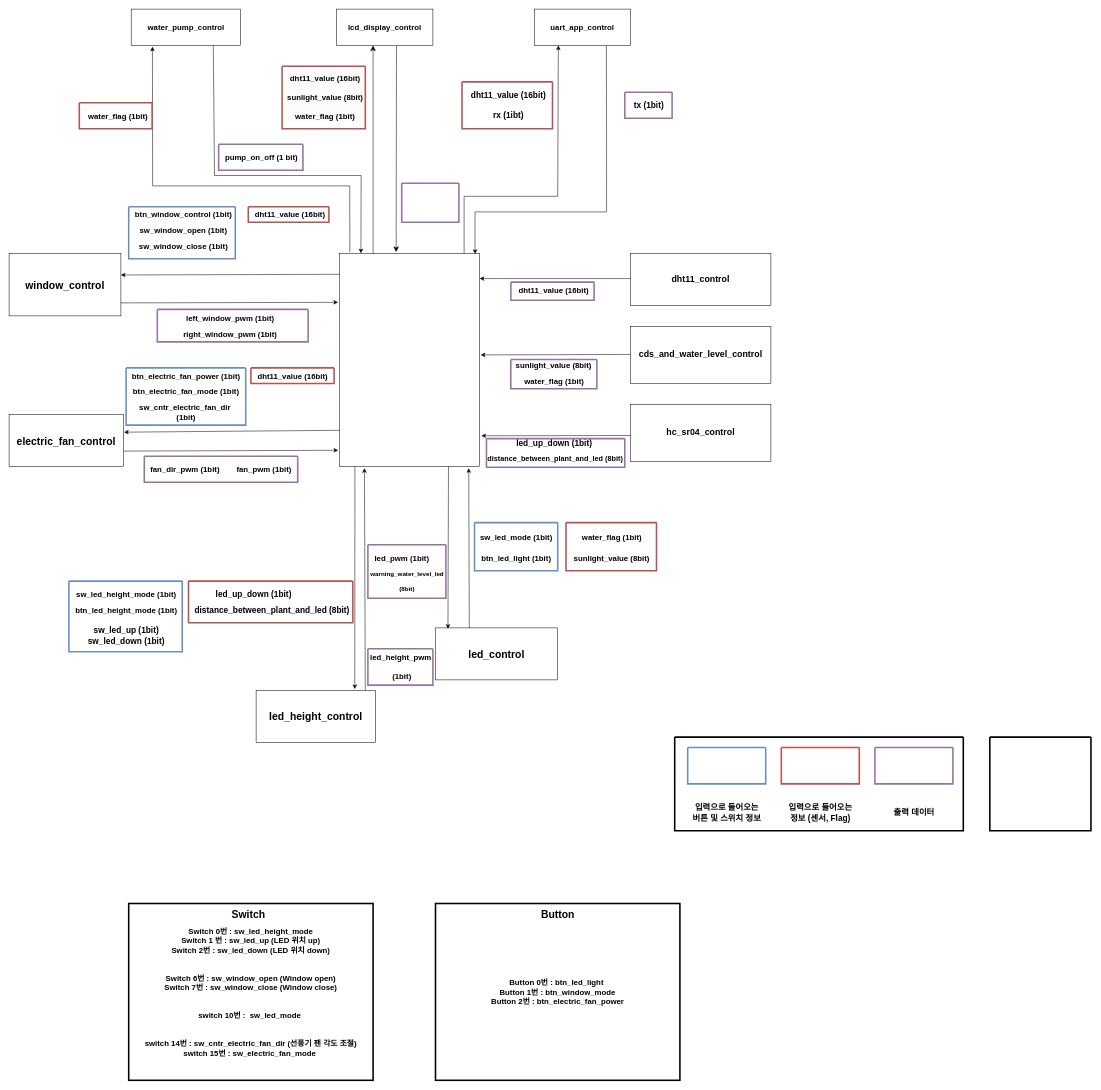
The diagram is 1101 pixels wide and 1090 high, and some of its shapes have lost their labels. The shapes that lost their labels are listed below. From the top down, each one's box as (x1, y1, x2, y2) in pixels, then its label:
(401, 182, 459, 223): scl (1bit) sda (1bit)
(339, 253, 480, 467): Top module
(989, 736, 1091, 831): dht11_value (16bit) [ 온도 (8bit) + 습도 (8bit)]
